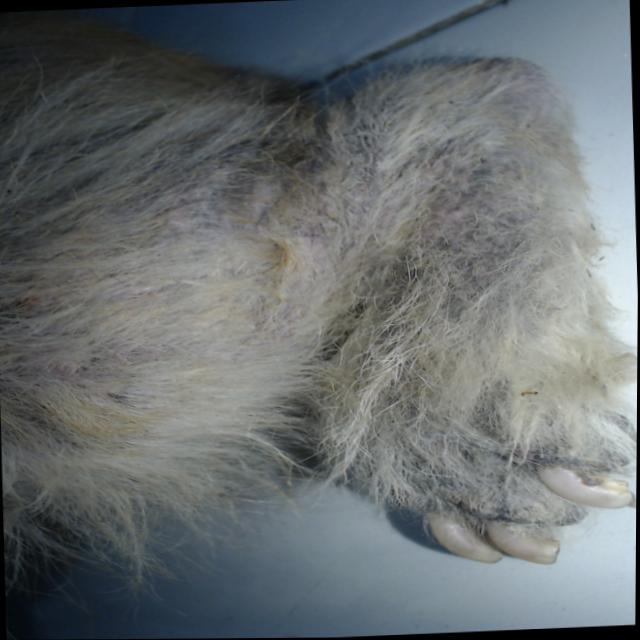demodicosis: (379, 133, 518, 274)
